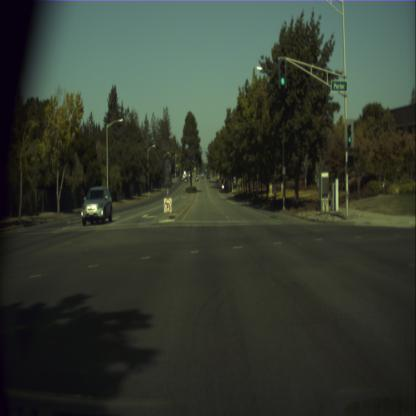Green: (278, 59, 287, 88), (348, 124, 352, 146)
